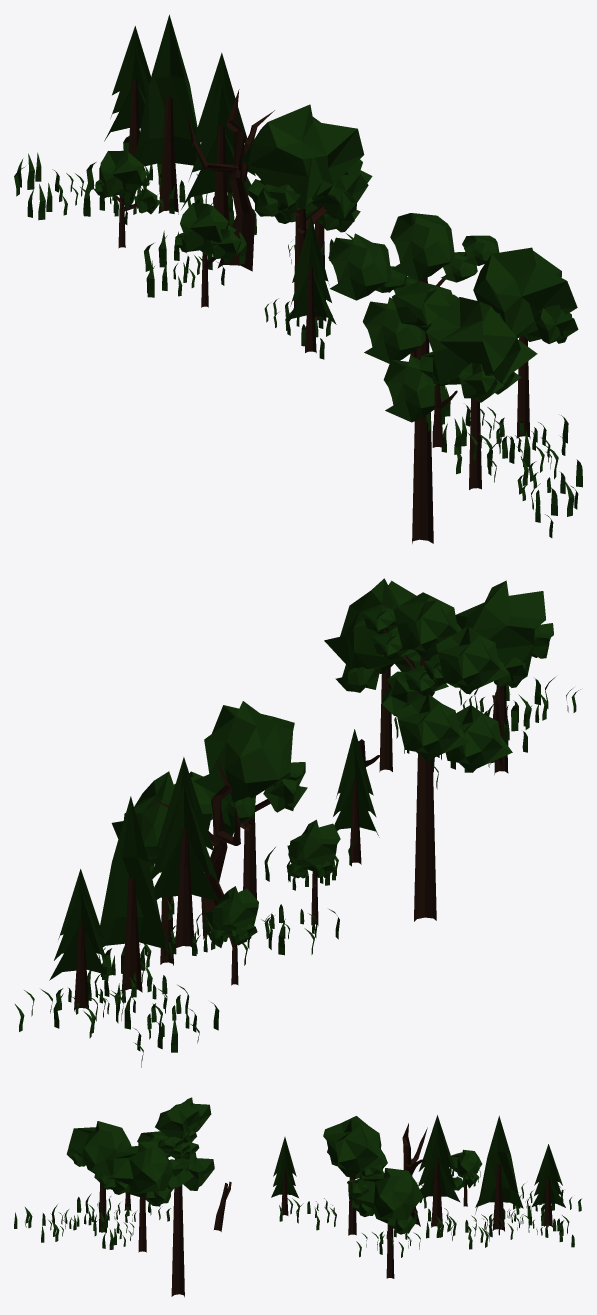
Rendered from treeLine.obj.
The picture shows the model from 3 angles, top to bottom: view 1: azimuth 30°, elevation 25°; view 2: azimuth 150°, elevation 25°; view 3: azimuth 270°, elevation 25°; orthographic projection. The views are drawn at different scales.
Visible parts, largest first — view 1: Окружность.014_Окружность.024, Окружность.011, Окружность.009, Окружность.010, Окружность.023, Окружность.006, Окружность.016, Окружность.024_Окружность.014, Окружность.004, Окружность.003, Окружность.019, Плоскость.070_Плоскость.024 (+7 smaller); view 2: Окружность.014_Окружность.024, Окружность.011, Окружность.023, Окружность.006, Окружность.009, Окружность.010, Окружность.003, Окружность.022, Окружность.004, Окружность.024_Окружность.014, Окружность.019, Окружность.016 (+6 smaller); view 3: Окружность.014_Окружность.024, Окружность.010, Окружность.011, Окружность.022, Окружность.009, Окружность.023, Окружность.006, Окружность.003, Окружность.004, Окружность.019, Окружность.016, Плоскость.030_Плоскость (+10 smaller).
Boxes of the visible parts, x1,y1,x2,y2 form: Окружность.014_Окружность.024: [328, 213, 499, 543]; Окружность.011: [241, 104, 368, 306]; Окружность.009: [419, 297, 537, 489]; Окружность.010: [473, 247, 578, 438]; Окружность.023: [134, 14, 200, 214]; Окружность.006: [181, 52, 255, 224]; Окружность.016: [187, 89, 274, 271]; Окружность.024_Окружность.014: [175, 203, 245, 307]; Окружность.004: [286, 216, 336, 353]; Окружность.003: [104, 26, 150, 156]; Окружность.019: [93, 150, 160, 248]; Плоскость.070_Плоскость.024: [14, 152, 85, 220]; Окружность.014_Окружность.024: [362, 592, 512, 921]; Окружность.011: [189, 701, 307, 899]; Окружность.023: [97, 796, 173, 994]; Окружность.006: [151, 757, 218, 948]; Окружность.009: [455, 580, 553, 774]; Окружность.010: [324, 578, 420, 772]; Окружность.003: [49, 869, 107, 1011]; Окружность.022: [111, 771, 212, 965]; Окружность.004: [333, 729, 379, 864]; Окружность.024_Окружность.014: [287, 819, 340, 925]; Окружность.019: [205, 886, 258, 985]; Окружность.016: [153, 758, 240, 939]; Окружность.014_Окружность.024: [137, 1097, 214, 1297]; Окружность.010: [107, 1141, 172, 1252]; Окружность.011: [323, 1116, 386, 1235]; Окружность.022: [351, 1168, 422, 1278]; Окружность.009: [66, 1121, 131, 1232]; Окружность.023: [475, 1115, 523, 1231]; Окружность.006: [418, 1115, 460, 1227]; Окружность.003: [531, 1144, 565, 1227]; Окружность.004: [271, 1137, 298, 1215]; Окружность.019: [450, 1149, 482, 1206]; Окружность.016: [402, 1123, 427, 1226]; Плоскость.030_Плоскость: [93, 1211, 134, 1249].
Size of the model in its own units: 3.09 by 4.29 by 11.5.
